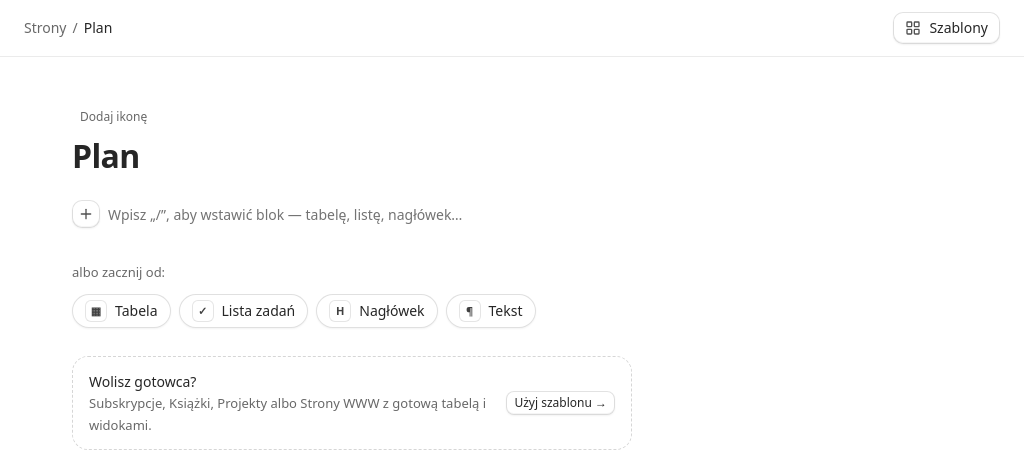
Test case: EditorView › pusty tytuł pokazuje w ścieżce „Bez tytułu”
The width and height of the screenshot is (1024, 467).
Step 1. Clear the field named "Nazwa strony" → (536, 156), box [72,135,1000,178]
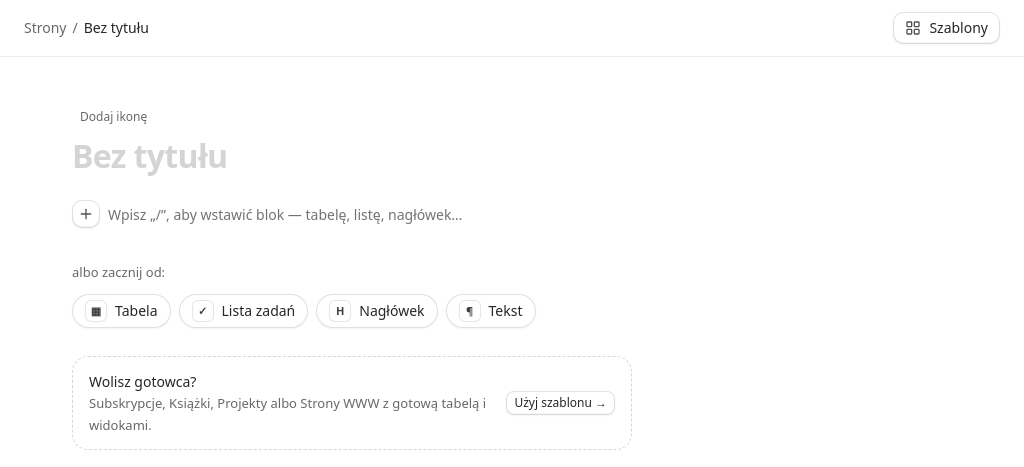
Check: the heading "Bez tytułu" is shown, box [84,18,149,38]
